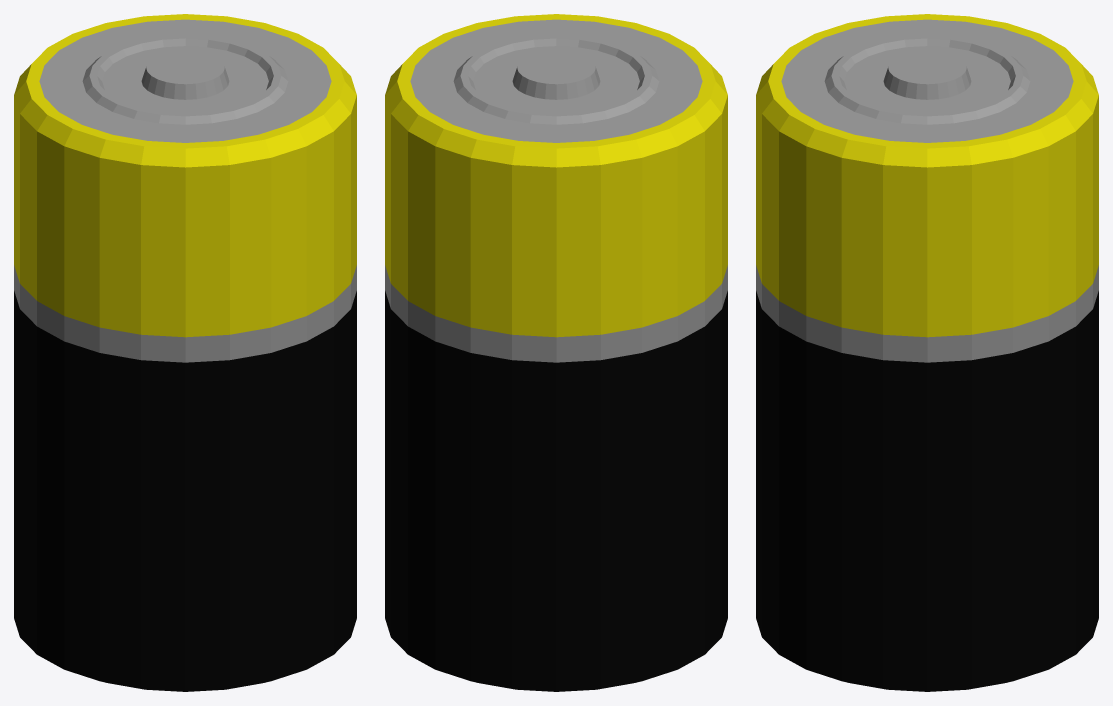
File: Battery.fbx
3 renders of one model, left to right at view 1: azimuth 30°, elevation 25°; view 2: azimuth 150°, elevation 25°; view 3: azimuth 270°, elevation 25°, orthographic.
Parts seen in each view (by area): view 1: Battery; view 2: Battery; view 3: Battery.
Boxes of the visible parts, x1,y1,x2,y2 form: Battery: (14,14,356,691); Battery: (385,14,727,691); Battery: (756,14,1098,691).
Bounding box in the file's own units: 200 × 362 × 200.
